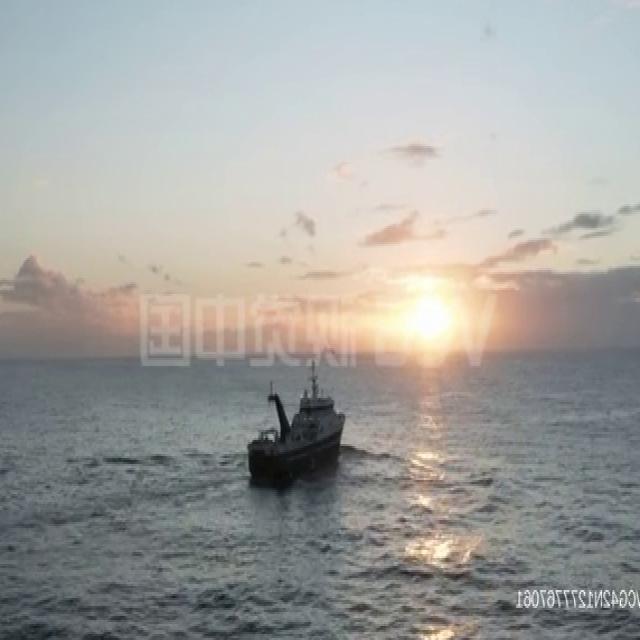houseboat: (245, 358, 344, 484)
